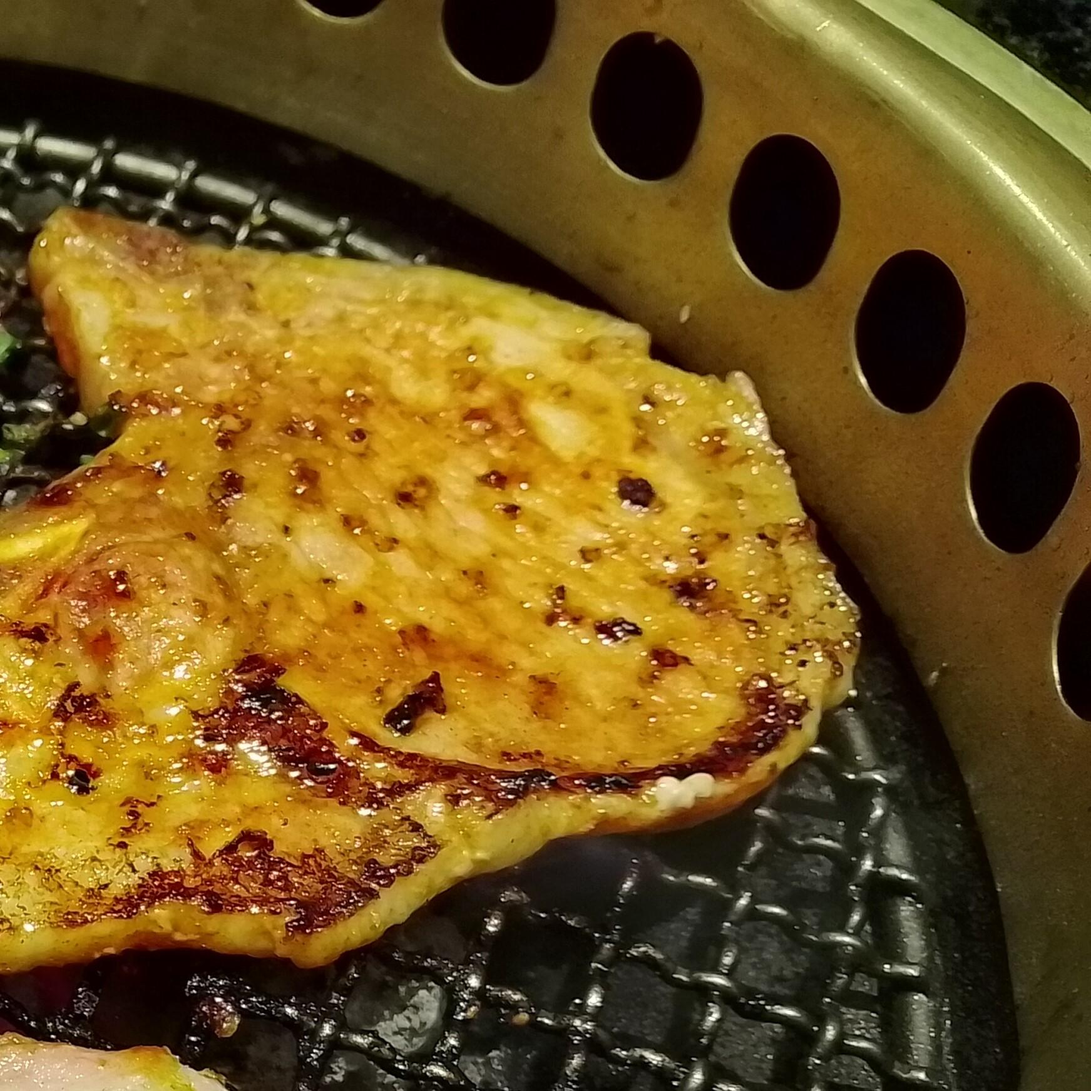Well-Cooked: (0, 209, 863, 980)
